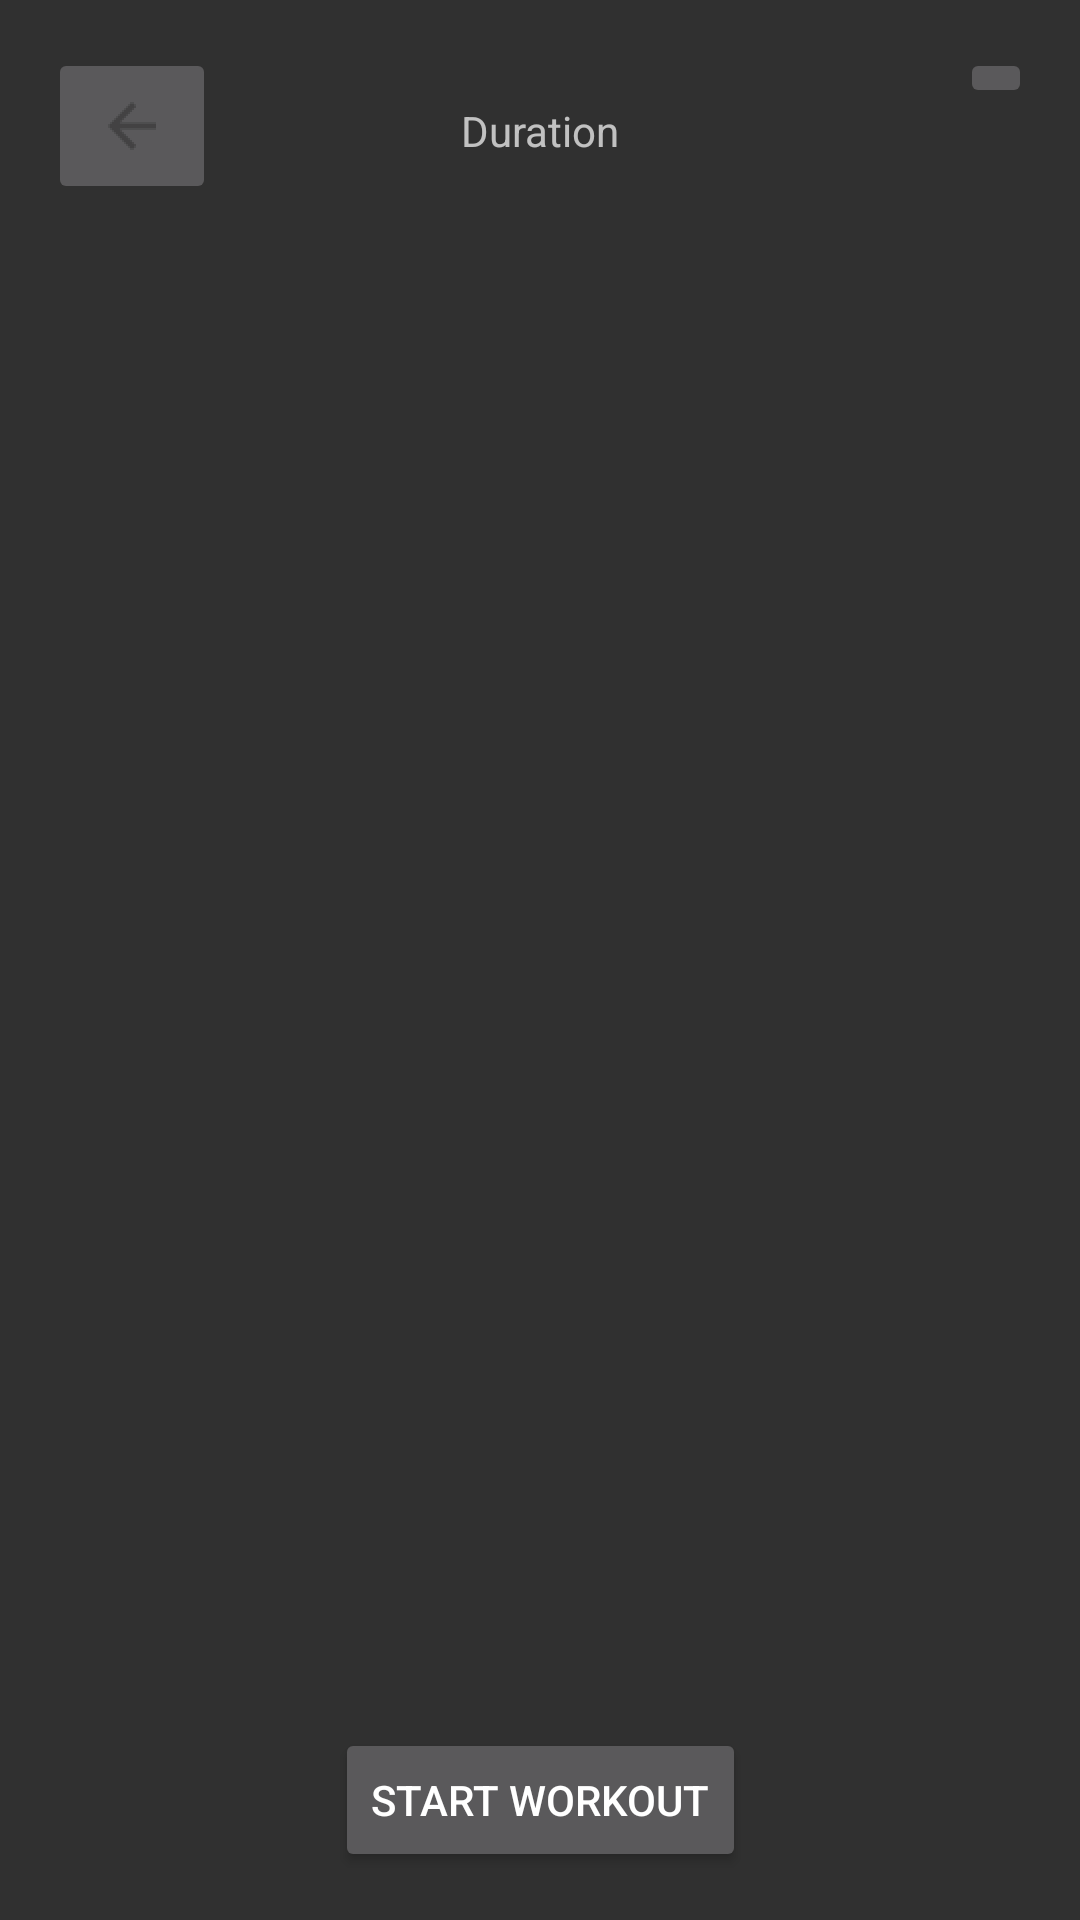

Icons on this 1080 × 1920 Android screen, each with the point to tap as (x,y):
back action: (132,126)
